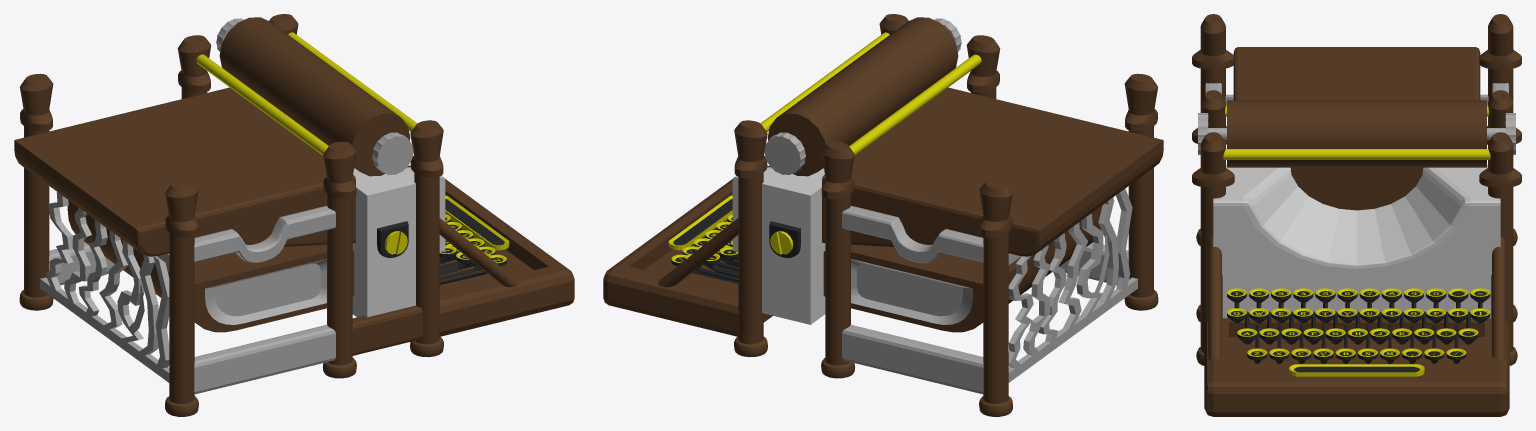
The model's file is PrintingPressMachine.fbx.
3 views of the same model, side by side, from view 1: azimuth 30°, elevation 25°; view 2: azimuth 150°, elevation 25°; view 3: azimuth 270°, elevation 25° (orthographic).
Visible parts, largest first — view 1: Cube.006, Cylinder.010, Cylinder.013, Cube.007, Cube.005, Cube, Cube.001, Cylinder.008, Cylinder, Cube.002, Cube.003, Cube.004 (+6 smaller); view 2: Cube.006, Cylinder.010, Cylinder.013, Cube.007, Cube.005, Cube, Cube.001, Cylinder.008, Cylinder, Cube.002, Cube.003, Cylinder.009 (+5 smaller); view 3: Cube.001, Cube, Cube.006, Cylinder.010, Cylinder, Cylinder.013, Cylinder.001, Cylinder.007, Cylinder.008, Cylinder.006, Cylinder.012, Cylinder.041 (+20 smaller).
Boxes of the visible parts, bbox=[...] form: Cube.006: bbox=[14, 87, 355, 256]; Cylinder.010: bbox=[219, 17, 410, 176]; Cylinder.013: bbox=[19, 73, 198, 416]; Cube.007: bbox=[67, 200, 354, 332]; Cube.005: bbox=[40, 192, 169, 382]; Cube: bbox=[407, 165, 574, 336]; Cube.001: bbox=[352, 167, 445, 317]; Cylinder.008: bbox=[177, 35, 356, 378]; Cylinder: bbox=[269, 14, 443, 357]; Cube.002: bbox=[49, 242, 335, 394]; Cube.003: bbox=[194, 205, 335, 263]; Cube.004: bbox=[352, 305, 422, 355]; Cube.006: bbox=[822, 87, 1163, 256]; Cylinder.010: bbox=[767, 17, 958, 176]; Cylinder.013: bbox=[979, 73, 1158, 416]; Cube.007: bbox=[823, 205, 1102, 332]; Cube.005: bbox=[1008, 188, 1137, 382]; Cube: bbox=[603, 165, 772, 336]; Cube.001: bbox=[732, 167, 825, 324]; Cylinder.008: bbox=[821, 35, 1000, 378]; Cylinder: bbox=[734, 14, 908, 357]; Cube.002: bbox=[842, 242, 1128, 394]; Cube.003: bbox=[842, 205, 983, 263]; Cylinder.009: bbox=[849, 54, 981, 155]; Cube.001: bbox=[1213, 164, 1500, 318]; Cube: bbox=[1204, 318, 1509, 416]; Cube.006: bbox=[1233, 47, 1480, 210]; Cylinder.010: bbox=[1227, 100, 1486, 167]; Cylinder: bbox=[1192, 132, 1521, 365]; Cylinder.013: bbox=[1192, 14, 1521, 245]; Cylinder.001: bbox=[1208, 236, 1505, 359]; Cylinder.007: bbox=[1223, 149, 1490, 159]; Cylinder.008: bbox=[1192, 90, 1521, 321]; Cylinder.006: bbox=[1289, 364, 1424, 376]; Cylinder.012: bbox=[1198, 113, 1515, 154]; Cylinder.041: bbox=[1348, 311, 1367, 344].
Size of the model in its own units: 569 by 307 by 386.
